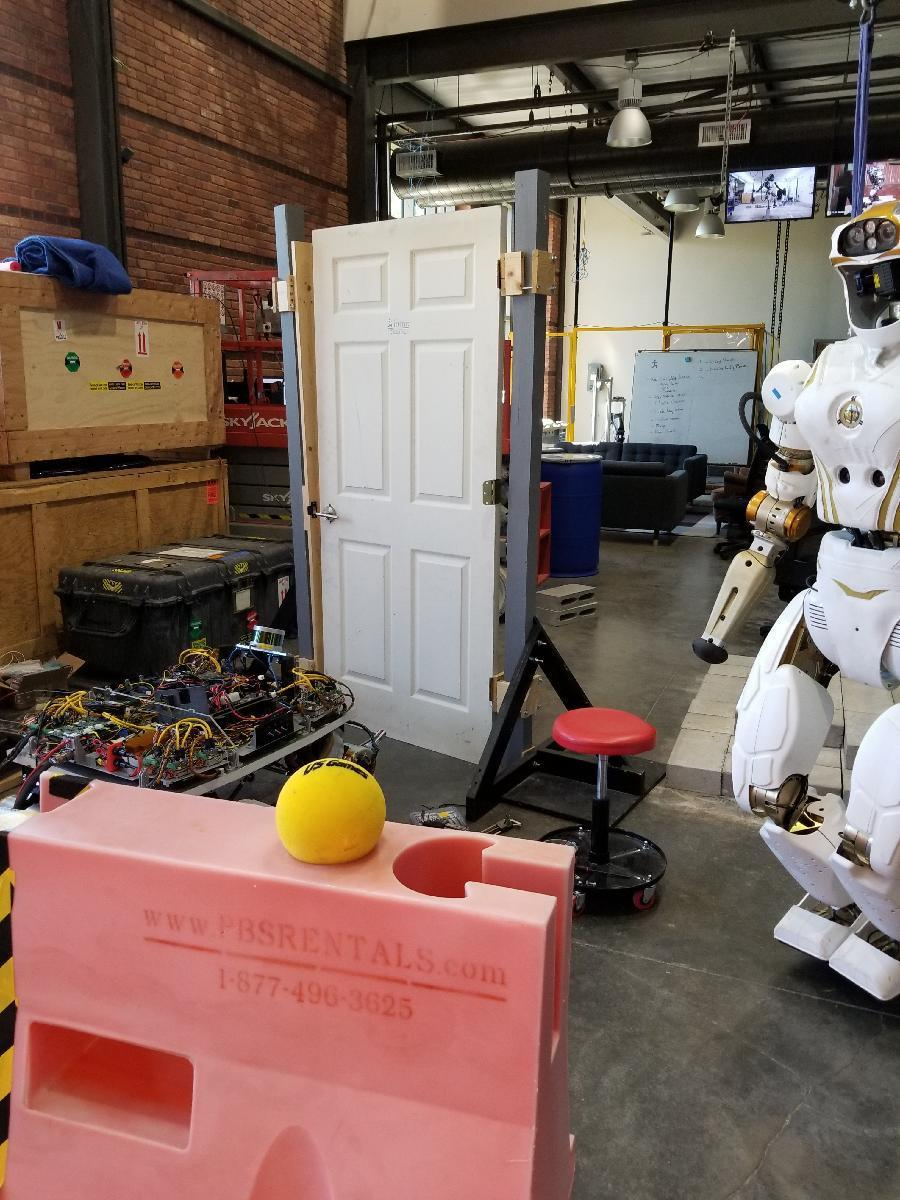door: (308, 218, 510, 763)
